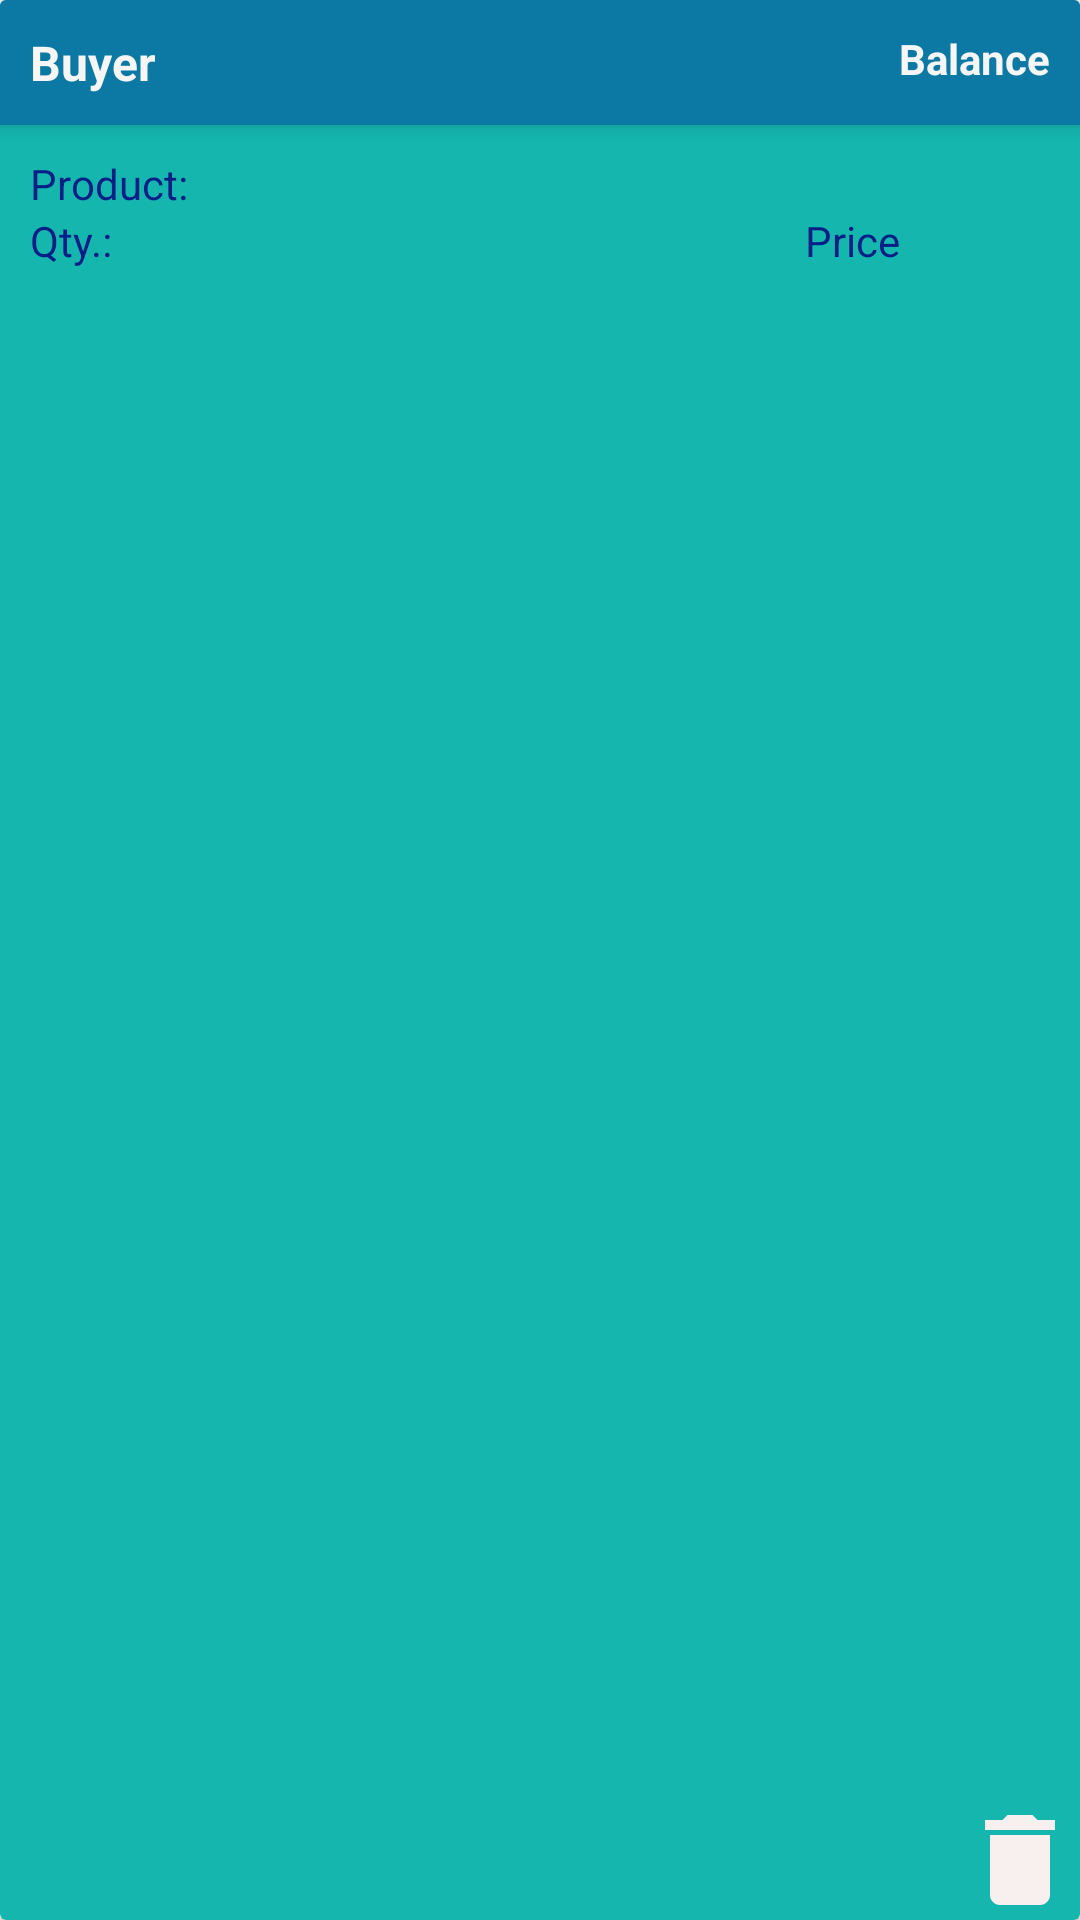

Icon bounding boxes for this 1080px×1920px phone screenshot, format [x1=x1, y1=y1, x2=x2, y2=y2]:
delete: [x1=985, y1=1815, x2=1080, y2=1920]
